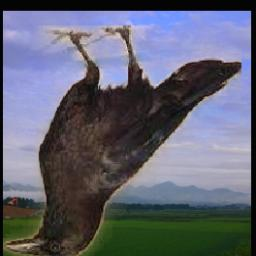Crow: (3, 26, 241, 256)
